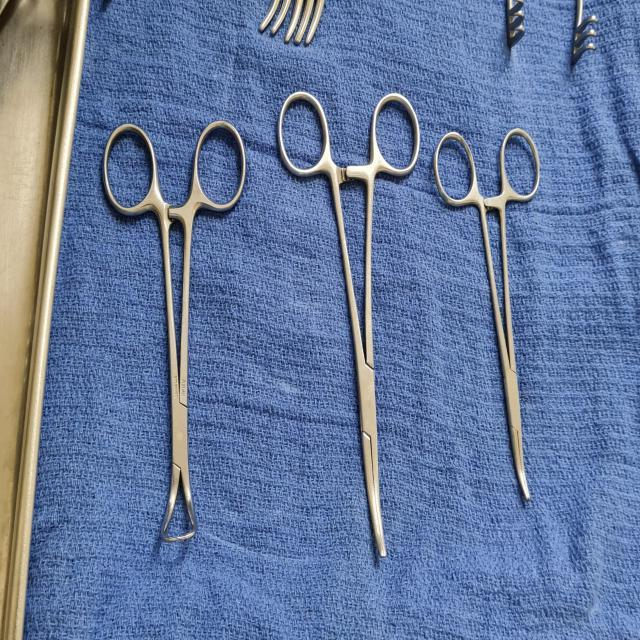Hemostat: (274, 87, 422, 564), (432, 122, 542, 504), (284, 0, 306, 43), (296, 0, 315, 46), (309, 0, 326, 47), (258, 2, 280, 36), (270, 0, 290, 37)
Towel_clip: (99, 114, 249, 549)
Weitlaner: (501, 0, 605, 63)
